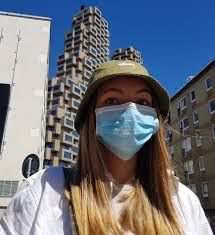with-mask: (85, 73, 173, 167)
